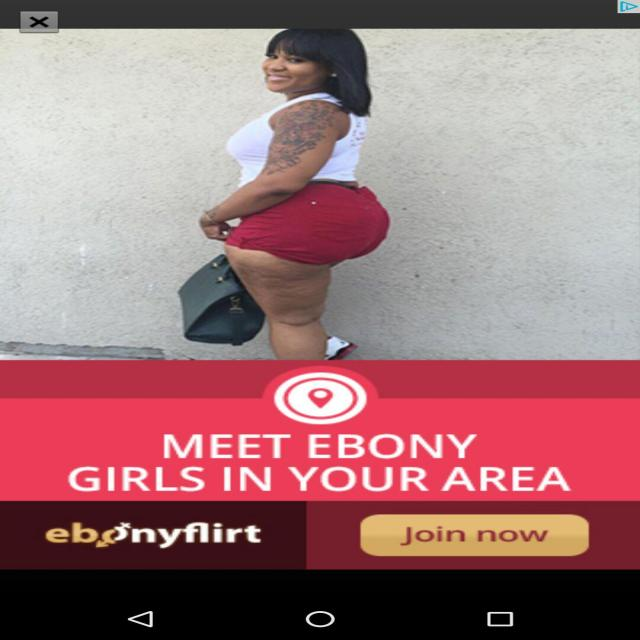button: (359, 512, 594, 557)
icon: (262, 365, 378, 426)
image: (0, 27, 640, 361), (38, 518, 267, 550)
text: (62, 428, 570, 491)
